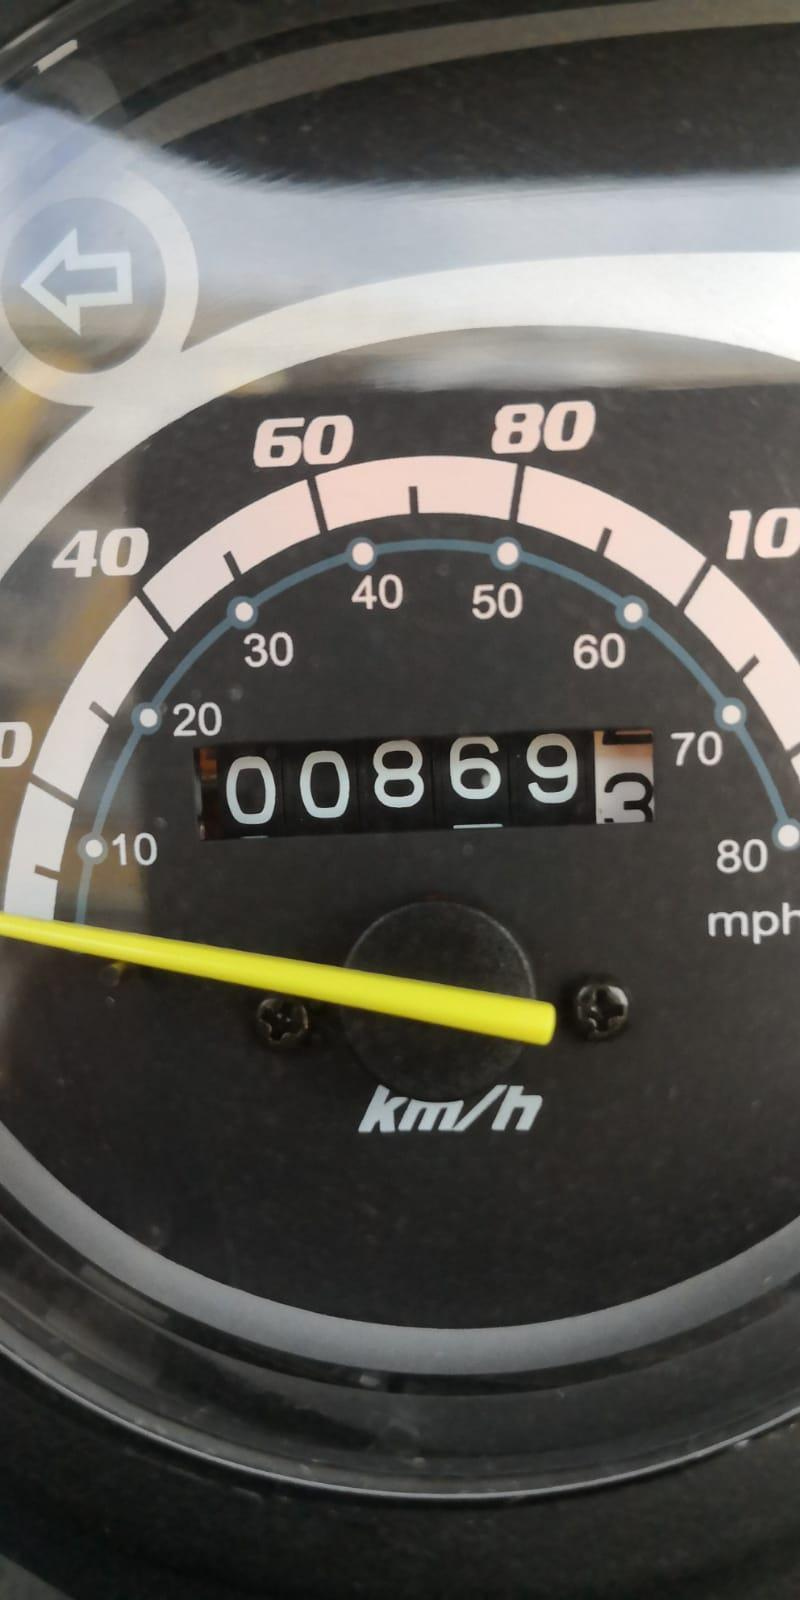0: (218, 748, 283, 826), (294, 746, 357, 824)
3: (598, 755, 661, 837)
6: (449, 728, 505, 811)
8: (372, 733, 432, 816)
9: (519, 724, 582, 813)
odometer: (193, 724, 678, 844)
